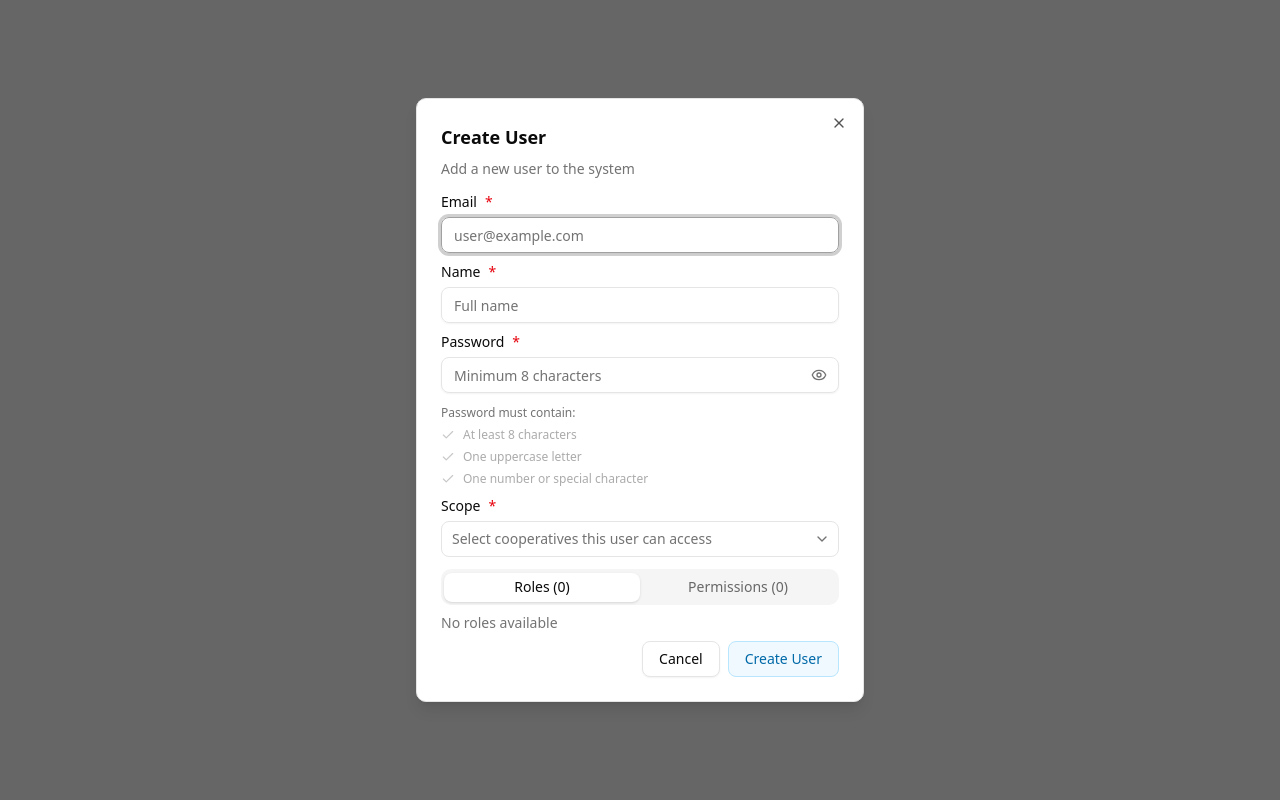
Test: UserDialog — create mode › empty name + submit shows "Name is required."
Type "someone@example.com" into the field with placeholder "user@example.com". click: (640, 235)
box: [441,217,839,253]
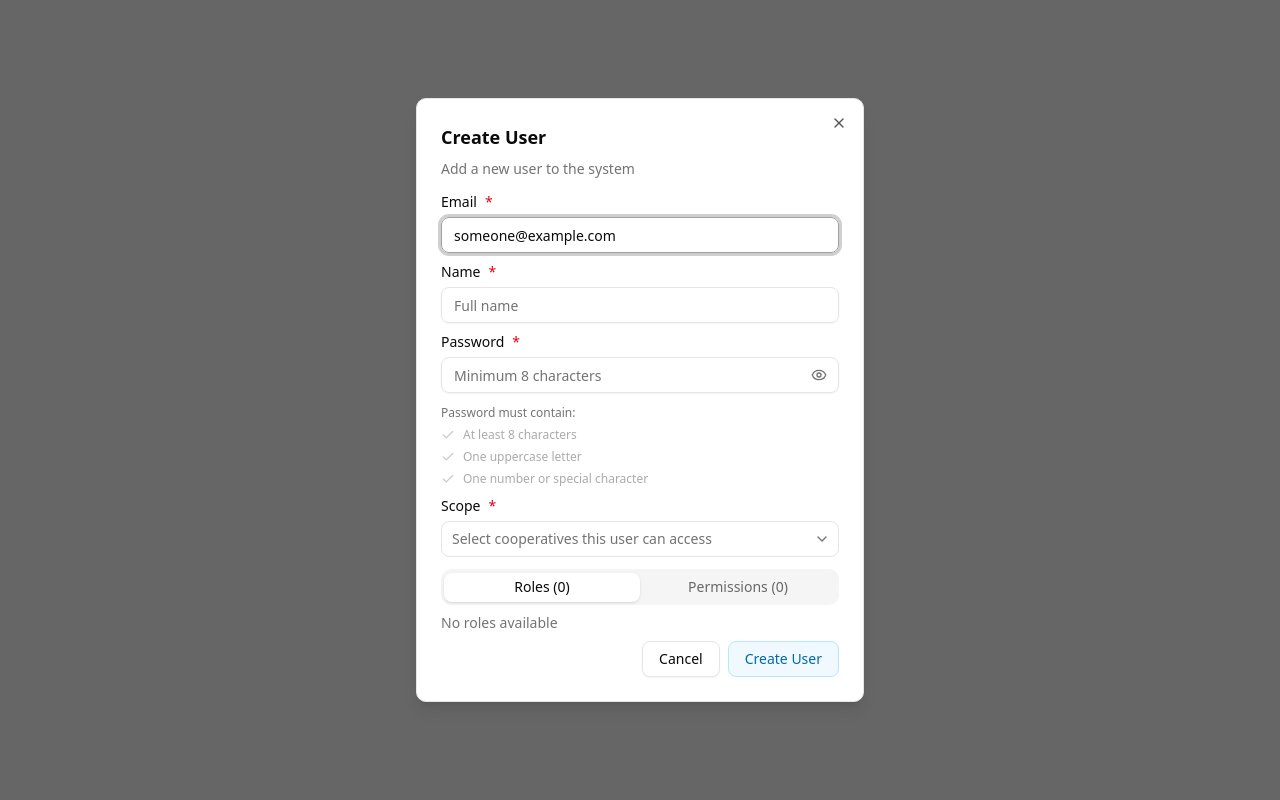
Type "KuanaData2026!" into the password field with placeholder "Minimum 8 characters". click: (640, 375)
box: [441,357,839,393]
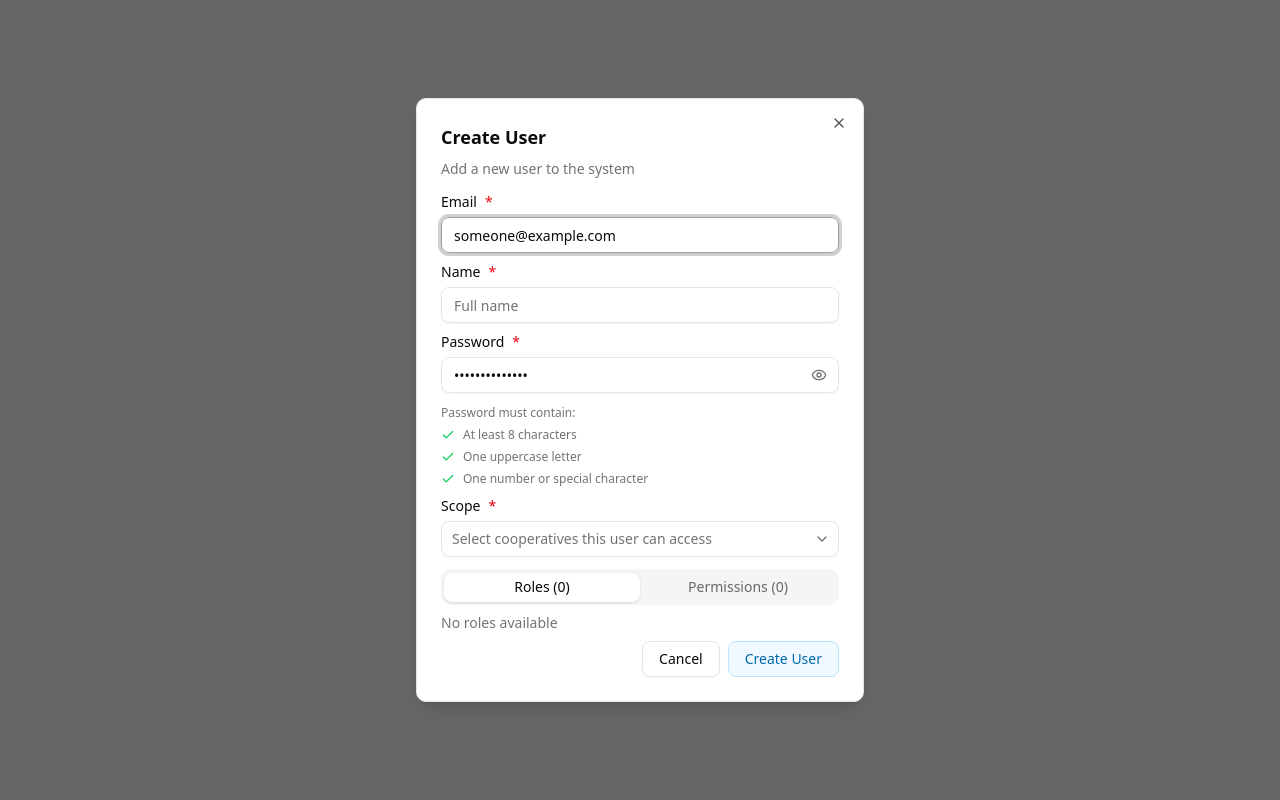
Click the button "Create User". click: (783, 659)
box: [728,641,839,677]
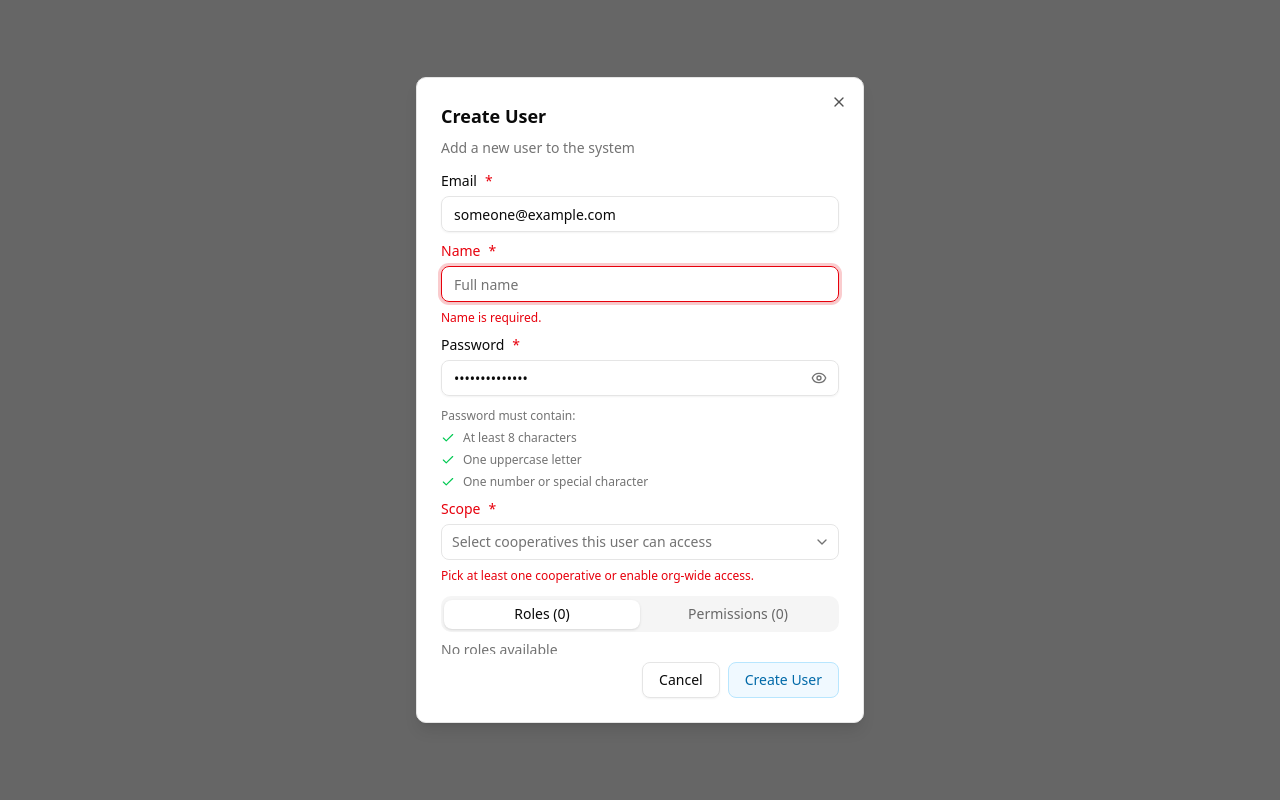
Now the text "Name is required." is shown, box [441,309,541,326]
